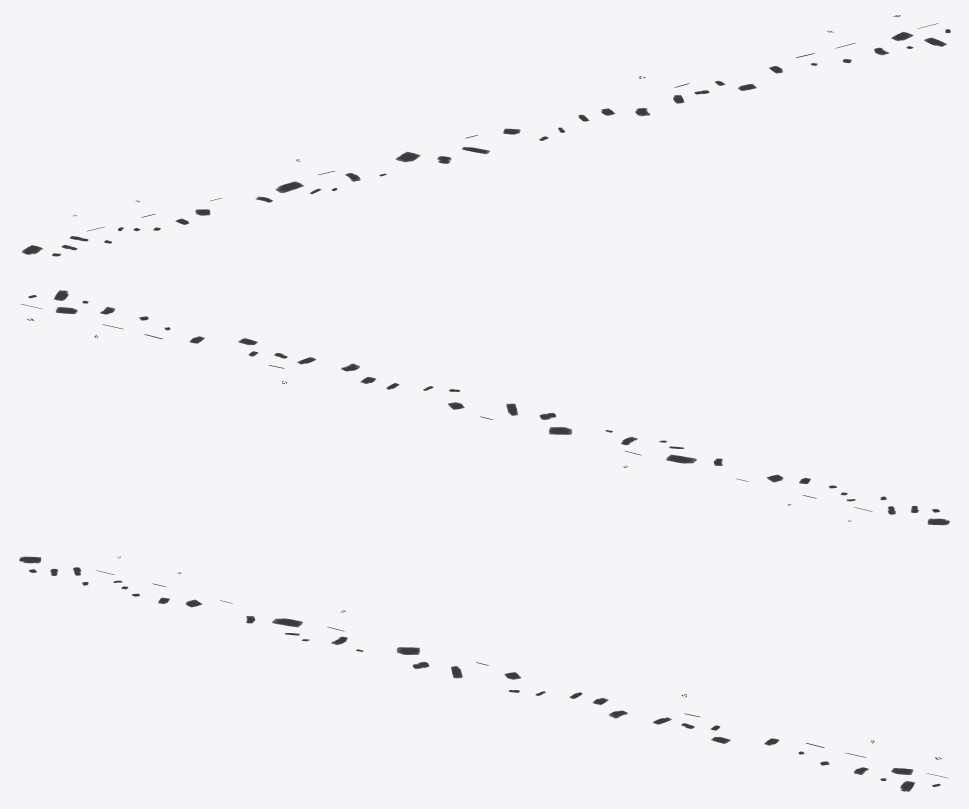
Rendered from puddles1.glb.
3 renders of one model, top to bottom at view 1: azimuth 30°, elevation 25°; view 2: azimuth 150°, elevation 25°; view 3: azimuth 330°, elevation 25°, orthographic.
Parts seen in each view (by area): view 1: Puddles; view 2: Puddles; view 3: Puddles.
Part boxes in pixels (x1,y1,x2,y2): Puddles: [22, 15, 950, 256]; Puddles: [21, 290, 949, 525]; Puddles: [19, 556, 946, 791].
Size of the model in its own units: 88.62 by 0.1776 by 8.02.
1 material, 1 textured.
